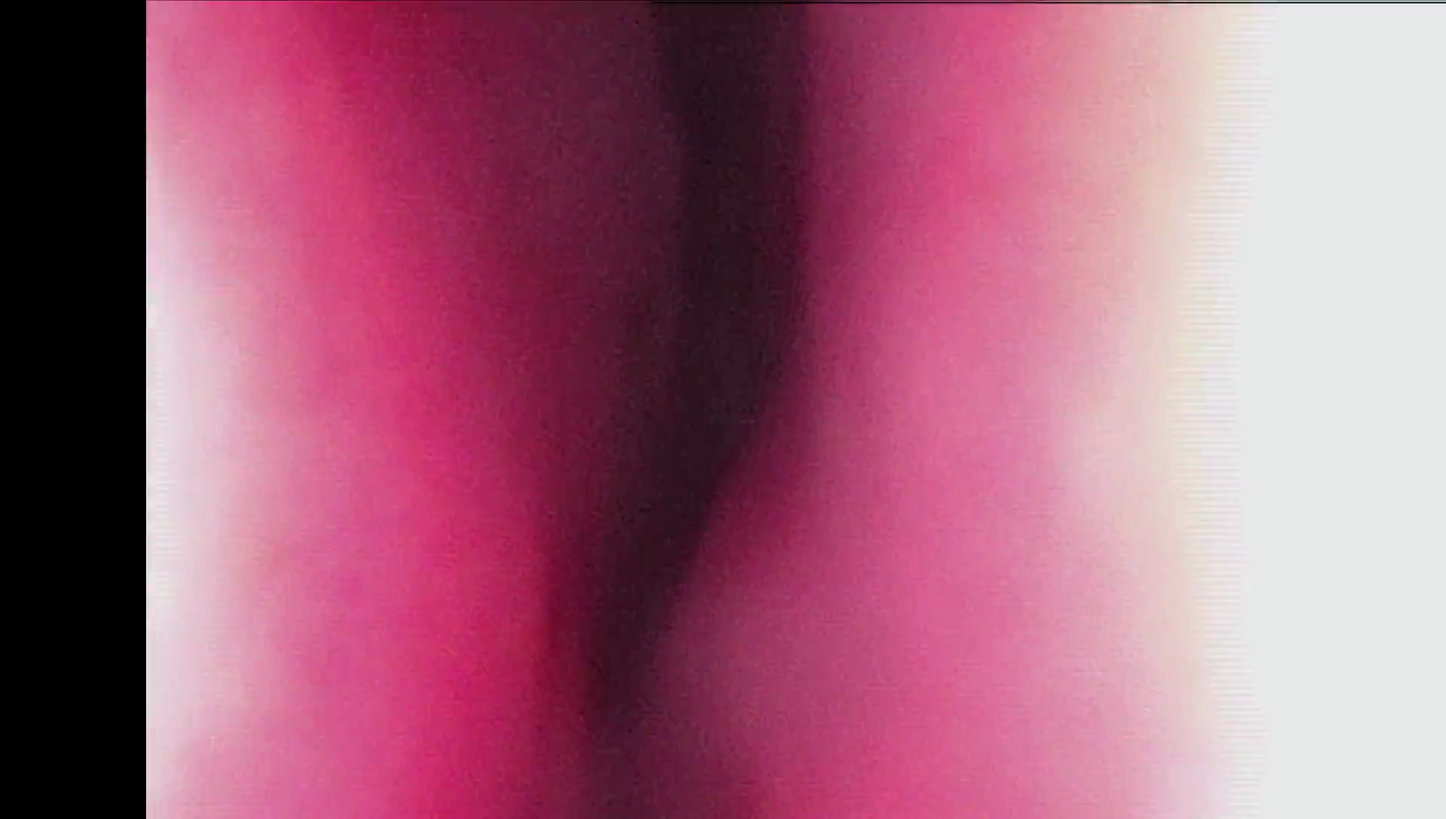close_wall: (862, 7, 1446, 819), (148, 114, 483, 819)
next: (590, 257, 788, 571), (641, 41, 825, 339)
